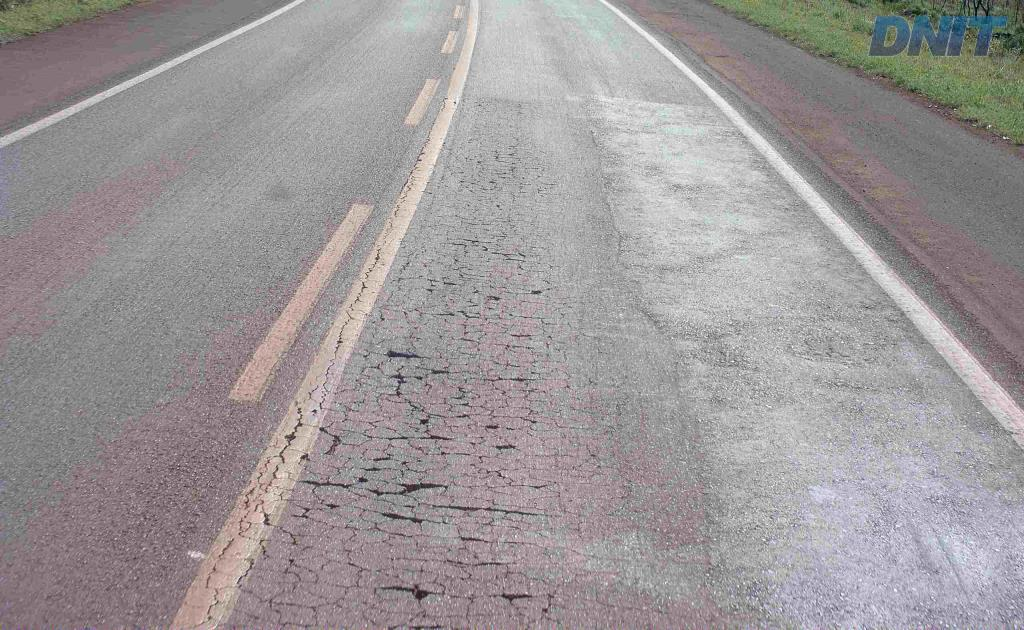crack: (365, 475, 538, 516)
